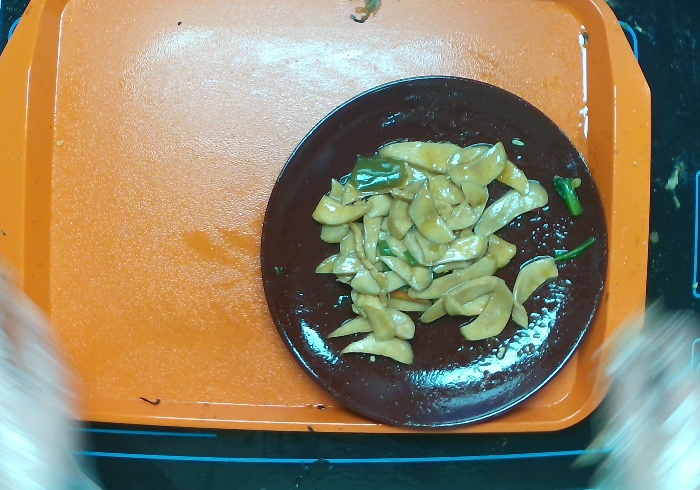HZYJPL-Ka_Fei_Yuan_Pan: (256, 71, 610, 424)
